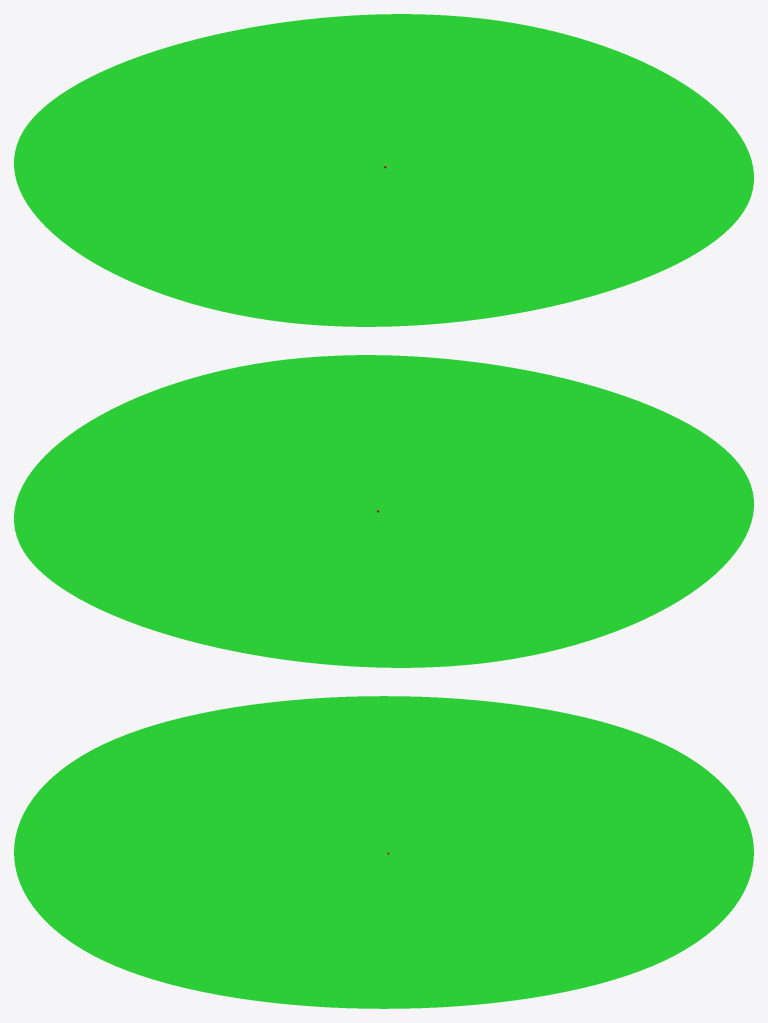
The model's file is starter_world.glb.
3 renders of one model, top to bottom at view 1: azimuth 30°, elevation 25°; view 2: azimuth 150°, elevation 25°; view 3: azimuth 270°, elevation 25°, orthographic.
Visible parts, largest first — view 1: Floor; view 2: Floor; view 3: Floor.
Part boxes in pixels (x1=…): Floor: x1=14, y1=14, x2=753, y2=326; Floor: x1=14, y1=355, x2=753, y2=667; Floor: x1=14, y1=696, x2=753, y2=1008.
Size of the model in its own units: 840 by 2.18 by 840.
